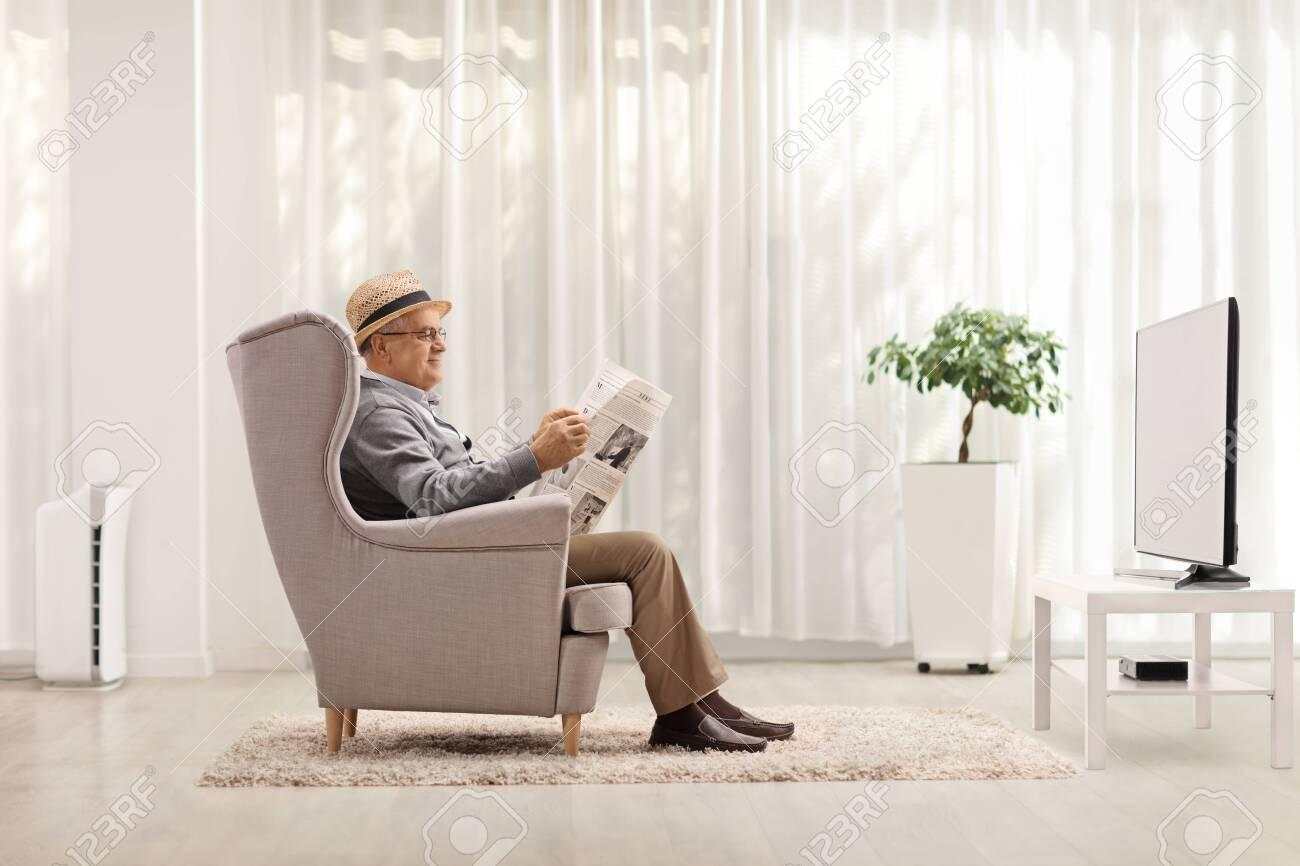FallenBody: (333, 250, 790, 757)
